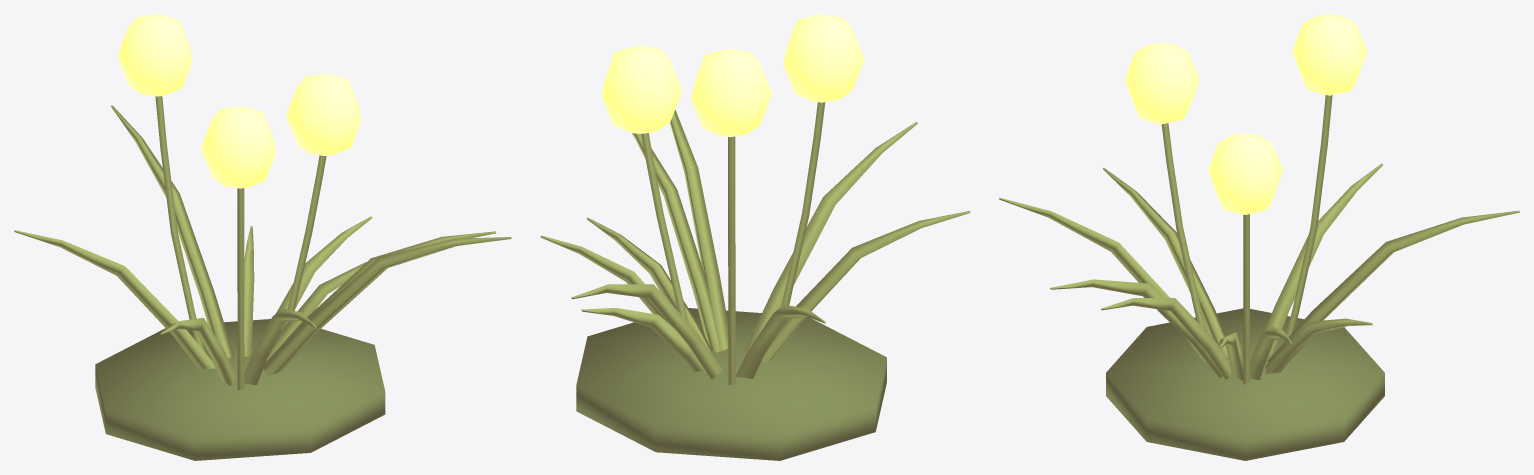
Rendered from prop_tc_linh_thao_2.f9e4119c5d.glb.
3 views of the same model, side by side, from view 1: azimuth 30°, elevation 25°; view 2: azimuth 150°, elevation 25°; view 3: azimuth 270°, elevation 25° (orthographic). The views are drawn at different scales.
Visible parts, largest first — view 1: prop_tc_linh_thao_2; view 2: prop_tc_linh_thao_2; view 3: prop_tc_linh_thao_2.
Boxes of the visible parts, x1,y1,x2,y2 form: prop_tc_linh_thao_2: [14, 14, 511, 460]; prop_tc_linh_thao_2: [540, 14, 970, 460]; prop_tc_linh_thao_2: [999, 14, 1519, 460].
Size of what is drawn, in the model's own units: 1.21 by 1.28 by 1.62.
